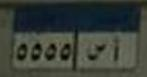5: (58, 41, 72, 61), (15, 41, 29, 61), (29, 43, 42, 64), (43, 43, 57, 62)
alif: (111, 34, 122, 63)
seen: (84, 38, 107, 62)
